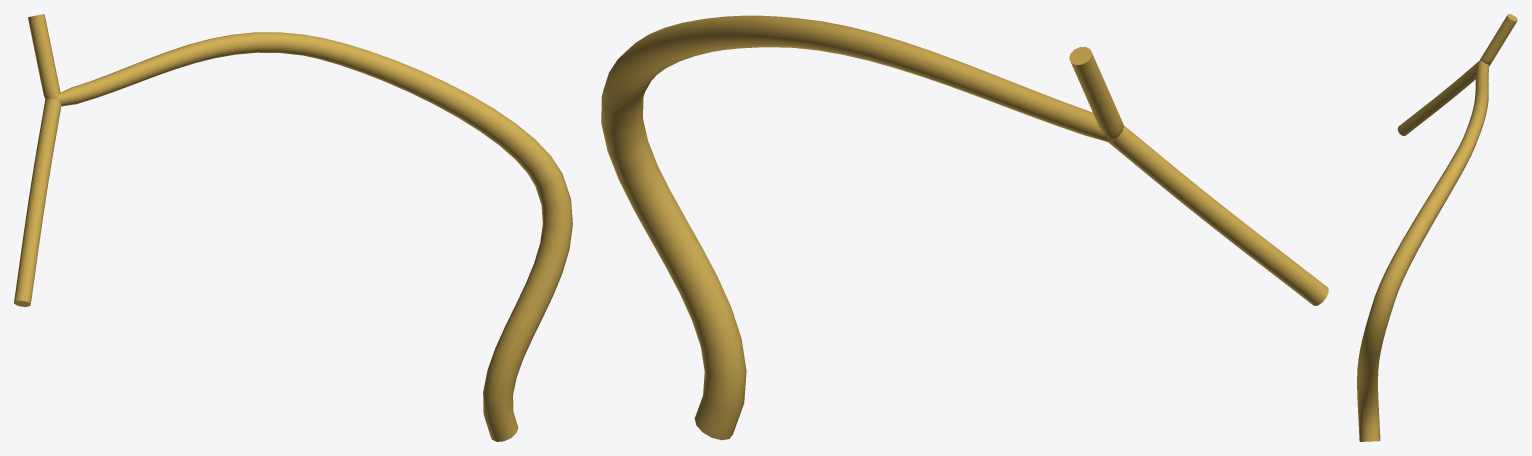
3 renders of one model, left to right at view 1: azimuth 30°, elevation 25°; view 2: azimuth 150°, elevation 25°; view 3: azimuth 270°, elevation 25°, orthographic. The views are drawn at different scales.
Visible parts, largest first — view 1: 左侧前庭蜗神经; view 2: 左侧前庭蜗神经; view 3: 左侧前庭蜗神经.
Boxes of the visible parts, <box> form: 左侧前庭蜗神经: <box>14,14,572,441</box>; 左侧前庭蜗神经: <box>601,15,1328,440</box>; 左侧前庭蜗神经: <box>1357,14,1517,441</box>.
Size of the model in its own units: 0.0212 by 0.0166 by 0.0079.
